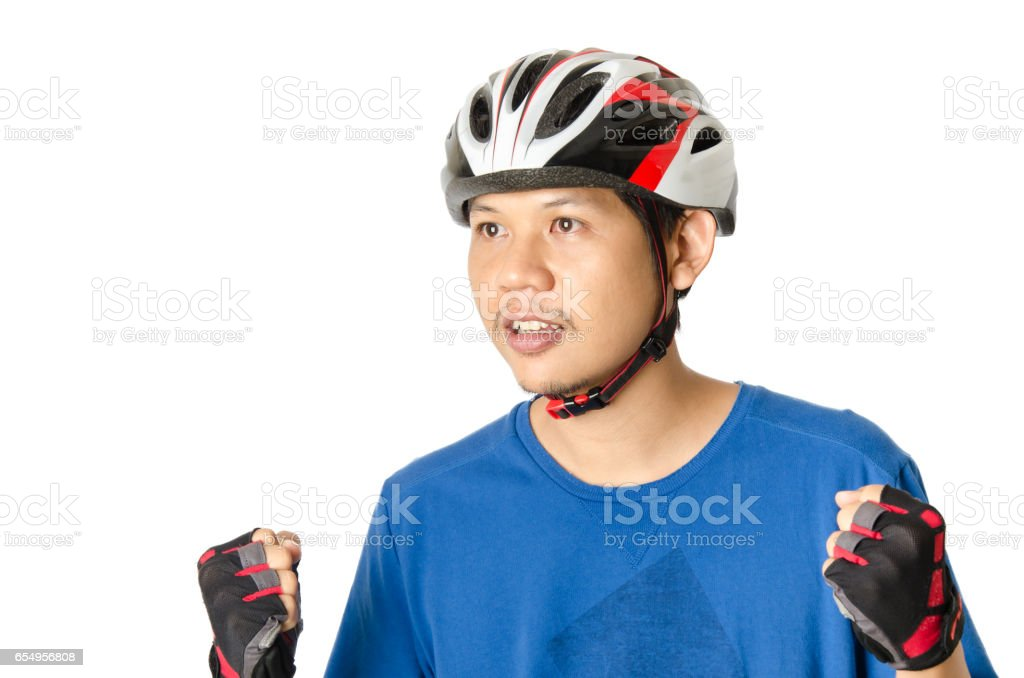helmet: (439, 45, 739, 419)
